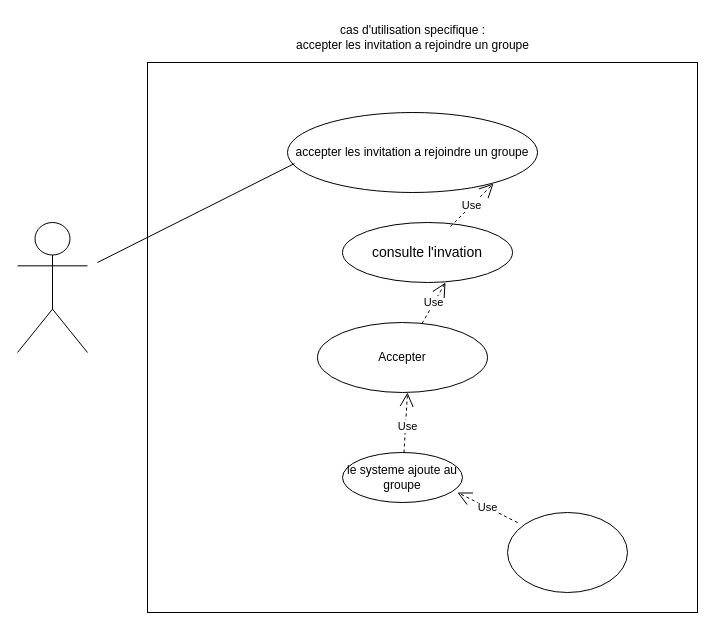
Some shapes in this 715 by 630 pixel diagram are drawn without their labels. Here are the shapes that lost their labels. From the top down, the centre of each, then its label:
At point 52,287: "Utilisateur".
At point 567,552: "accede au contenu du groupe".
